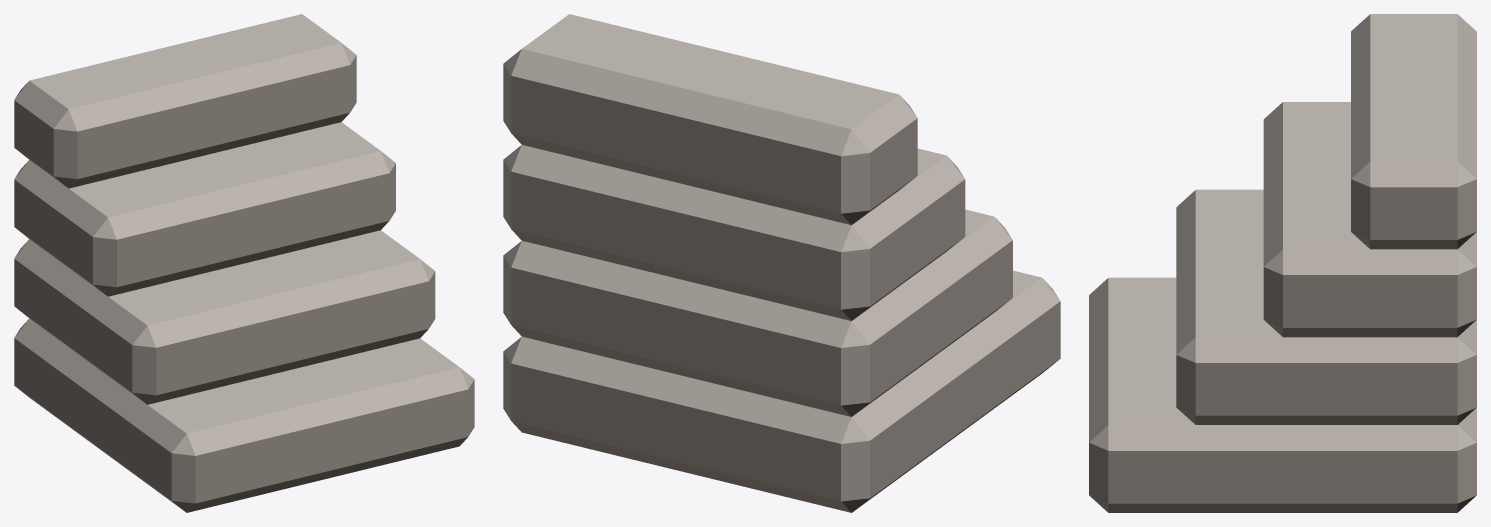
The model's file is m_kub_stone_stairs_piled.FBX.
The picture shows the model from 3 angles, left to right: view 1: azimuth 30°, elevation 25°; view 2: azimuth 150°, elevation 25°; view 3: azimuth 270°, elevation 25°; orthographic projection. The views are drawn at different scales.
Parts seen in each view (by area): view 1: m_kub_stone_stairs_piled; view 2: m_kub_stone_stairs_piled; view 3: m_kub_stone_stairs_piled.
Part boxes in pixels (left/top/right/bottom): m_kub_stone_stairs_piled: left=14, top=14, right=474, bottom=512; m_kub_stone_stairs_piled: left=503, top=14, right=1060, bottom=512; m_kub_stone_stairs_piled: left=1089, top=14, right=1476, bottom=512.
Size of the model in its own units: 2 by 2 by 2.
